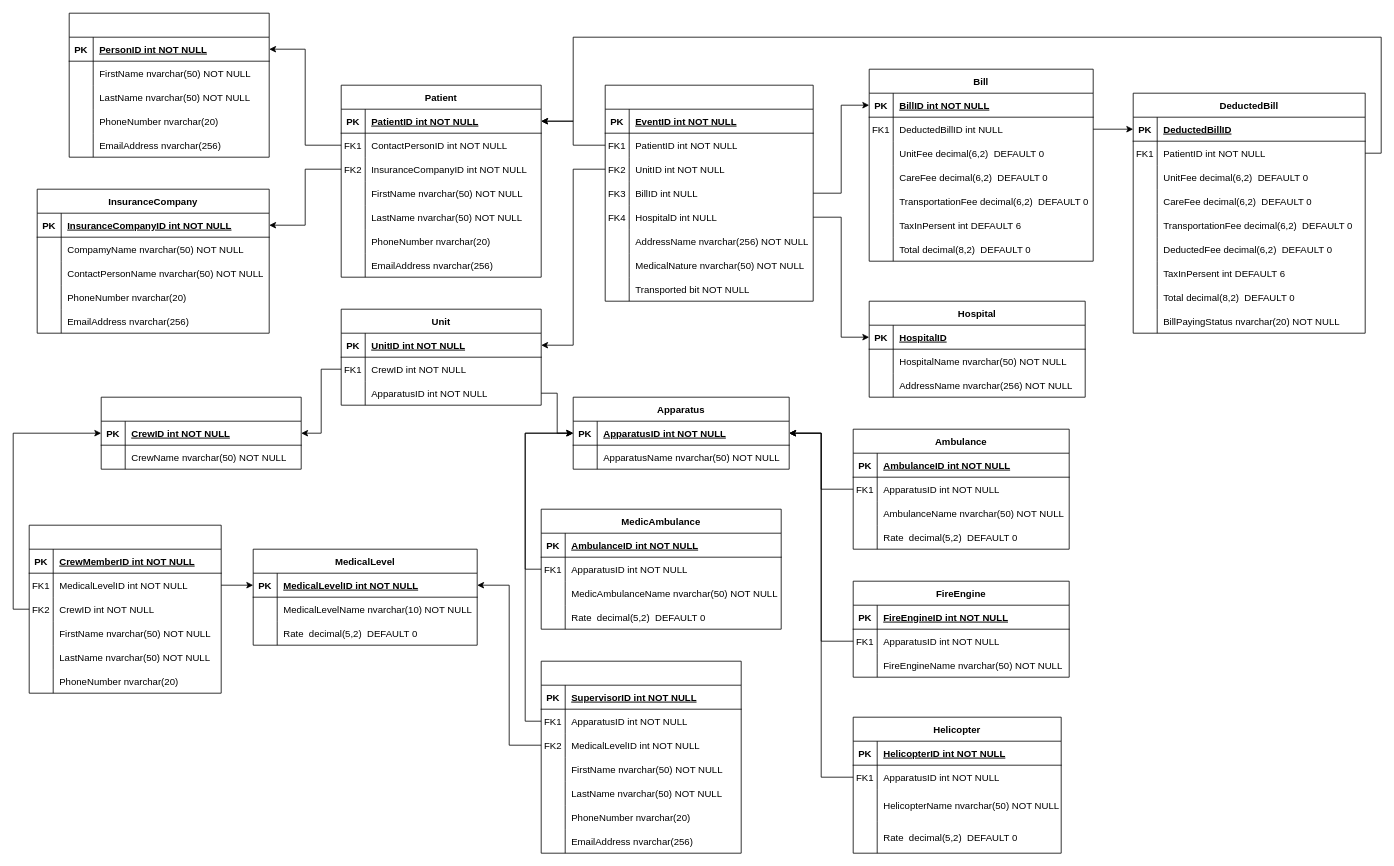
Image size: 1394x866. Some labels were removed from this diagram. Here are the shapes that lost their labels. From the top down, the box of each, then its label:
(68, 12, 269, 157): People
(604, 84, 813, 301): MedicalEmergency
(100, 396, 301, 469): Crews
(28, 524, 221, 693): CrewMembers
(540, 660, 741, 853): EMSSupervisor
